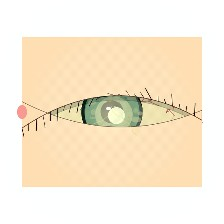corneal_ulcer: (83, 90, 144, 139)
